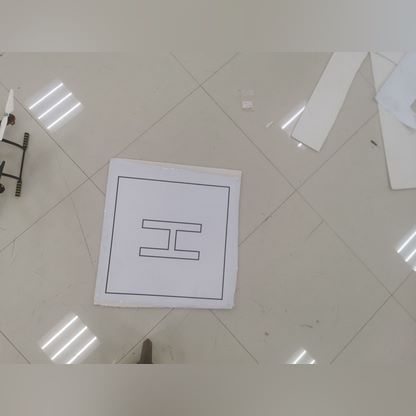H: (132, 201, 211, 287)
